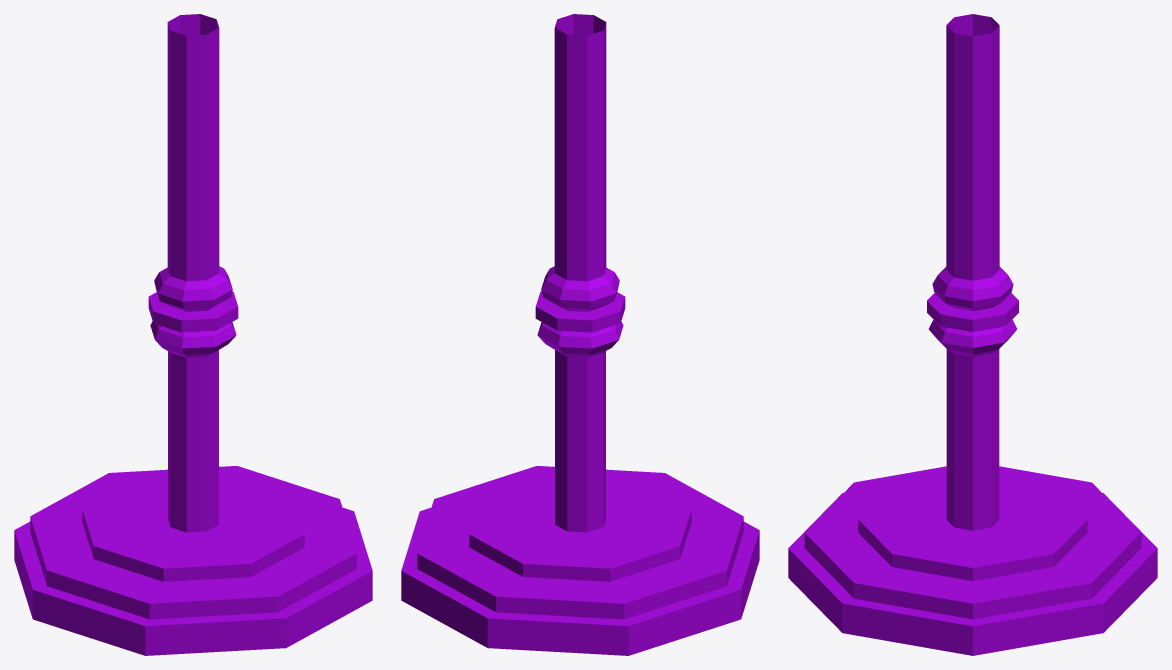
The model's file is sm_sideLampBase_low.fbx.
3 views of the same model, side by side, from view 1: azimuth 30°, elevation 25°; view 2: azimuth 150°, elevation 25°; view 3: azimuth 270°, elevation 25° (orthographic).
Parts seen in each view (by area): view 1: polySurface120; view 2: polySurface120; view 3: polySurface120.
Boxes of the visible parts, x1,y1,x2,y2 form: polySurface120: (14, 14, 372, 655); polySurface120: (401, 14, 759, 655); polySurface120: (788, 14, 1157, 655).
Size of the model in its own units: 116 by 191 by 116.
